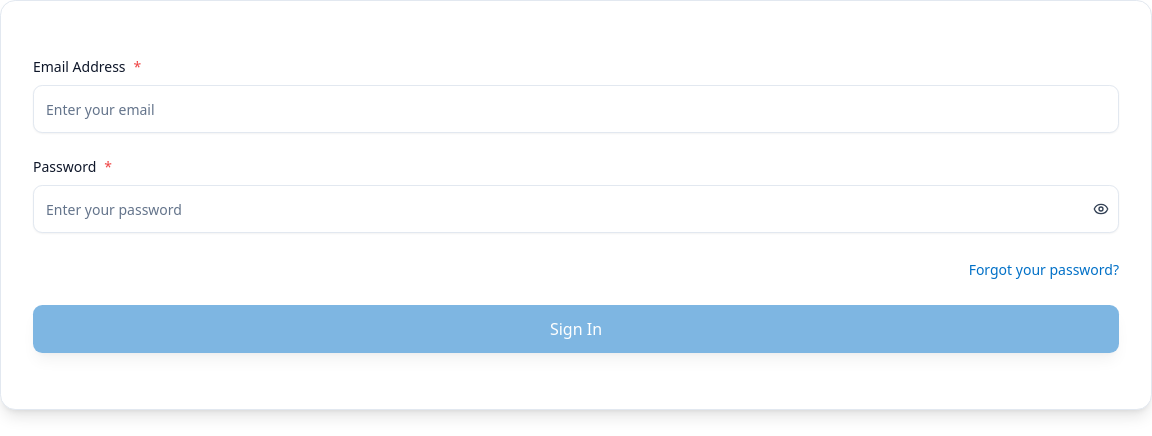
it: LoginForm › enables submit when form is valid
The image size is (1152, 436).
Type "a@b.com" into the field labelled "Email Address *".
click(576, 109); type("a@b.com")  # box [33,85,1119,133]
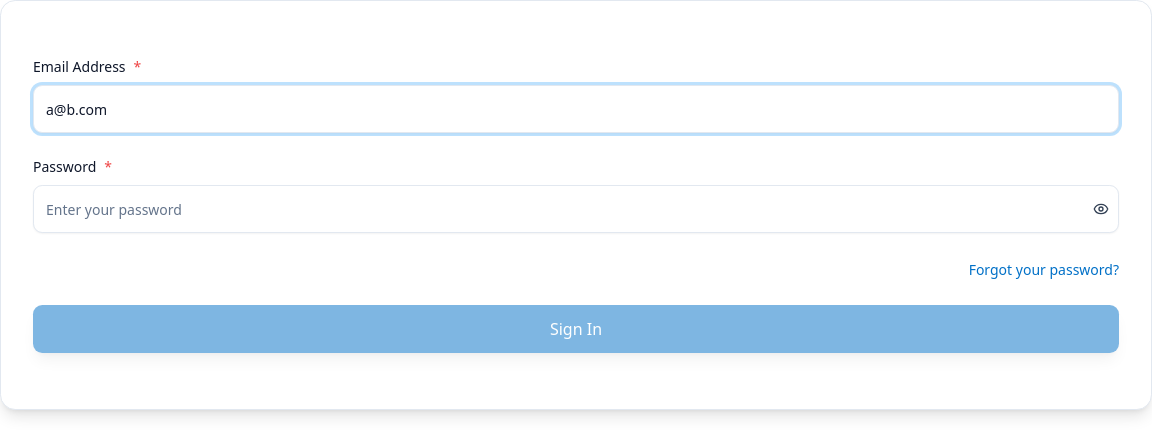
Type "secret1" into the password field labelled "Password *".
click(576, 209); type("secret1")  # box [33,185,1119,233]
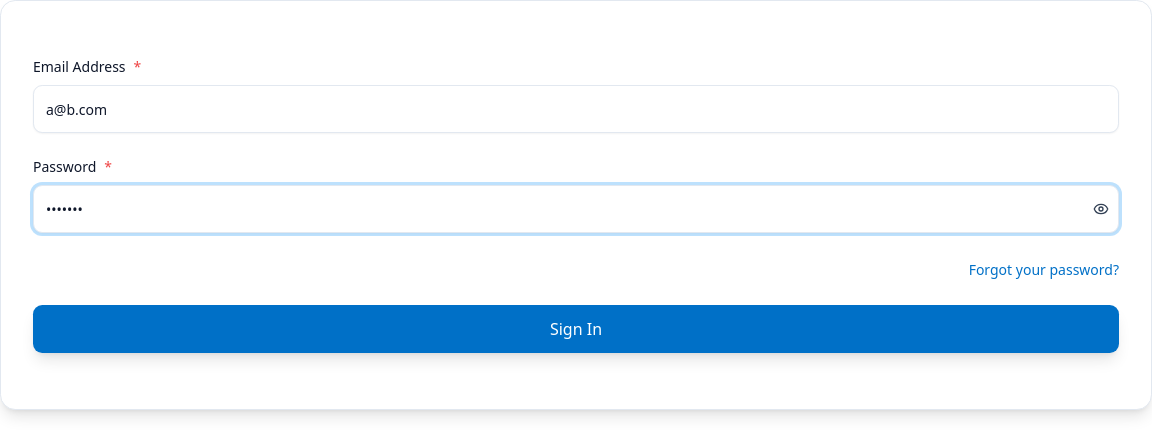
Now the button "Sign In" is enabled, box [33,305,1119,353]
